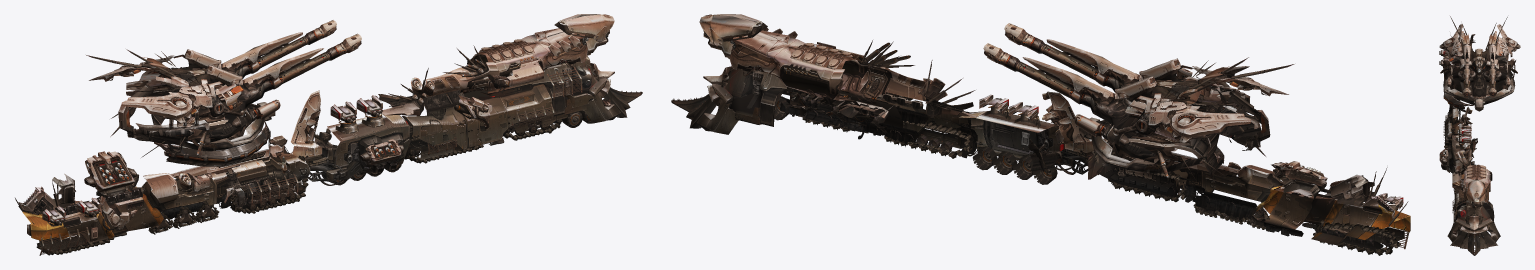
Rendered from mbg001.glb.
3 renders of one model, left to right at view 1: azimuth 30°, elevation 25°; view 2: azimuth 150°, elevation 25°; view 3: azimuth 270°, elevation 25°, orthographic. The views are drawn at different scales.
Parts seen in each view (by area): view 1: mbg001; view 2: mbg001; view 3: mbg001.
Boxes of the visible parts, x1,y1,x2,y2 form: mbg001: (15,14,642,255); mbg001: (671,14,1410,255); mbg001: (1439,16,1520,255).
Size of the model in its own units: 72.67 by 16.91 by 13.43.
Materials: 25 (25 with a texture image).
